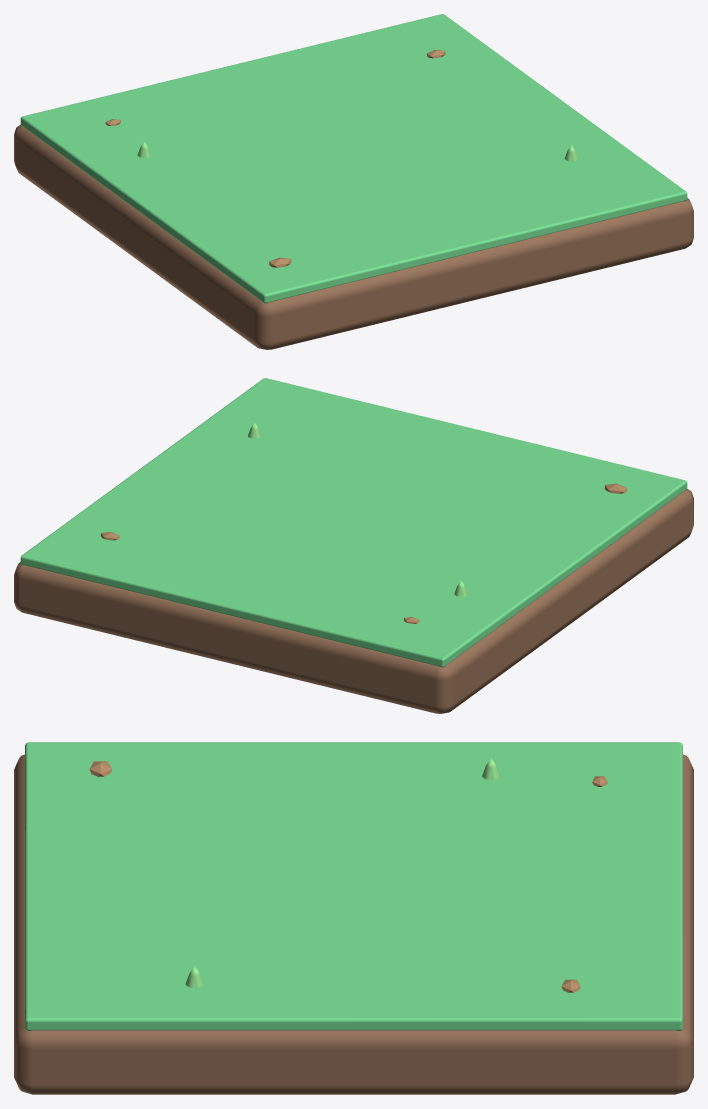
Rendered from Tile_Grass.fbx.
3 renders of one model, top to bottom at view 1: azimuth 30°, elevation 25°; view 2: azimuth 150°, elevation 25°; view 3: azimuth 270°, elevation 25°, orthographic. The views are drawn at different scales.
Parts seen in each view (by area): view 1: Soft grass surface, Rounded soil edge; view 2: Soft grass surface, Rounded soil edge; view 3: Soft grass surface, Rounded soil edge.
Part boxes in pixels (box(x1,y1,x2,y2)): Soft grass surface: box(20, 14, 687, 303); Rounded soil edge: box(14, 124, 693, 349); Soft grass surface: box(20, 378, 687, 667); Rounded soil edge: box(14, 488, 693, 713); Soft grass surface: box(25, 742, 682, 1030); Rounded soil edge: box(14, 754, 693, 1094).
Size of the model in its own units: 940 by 146 by 940.
